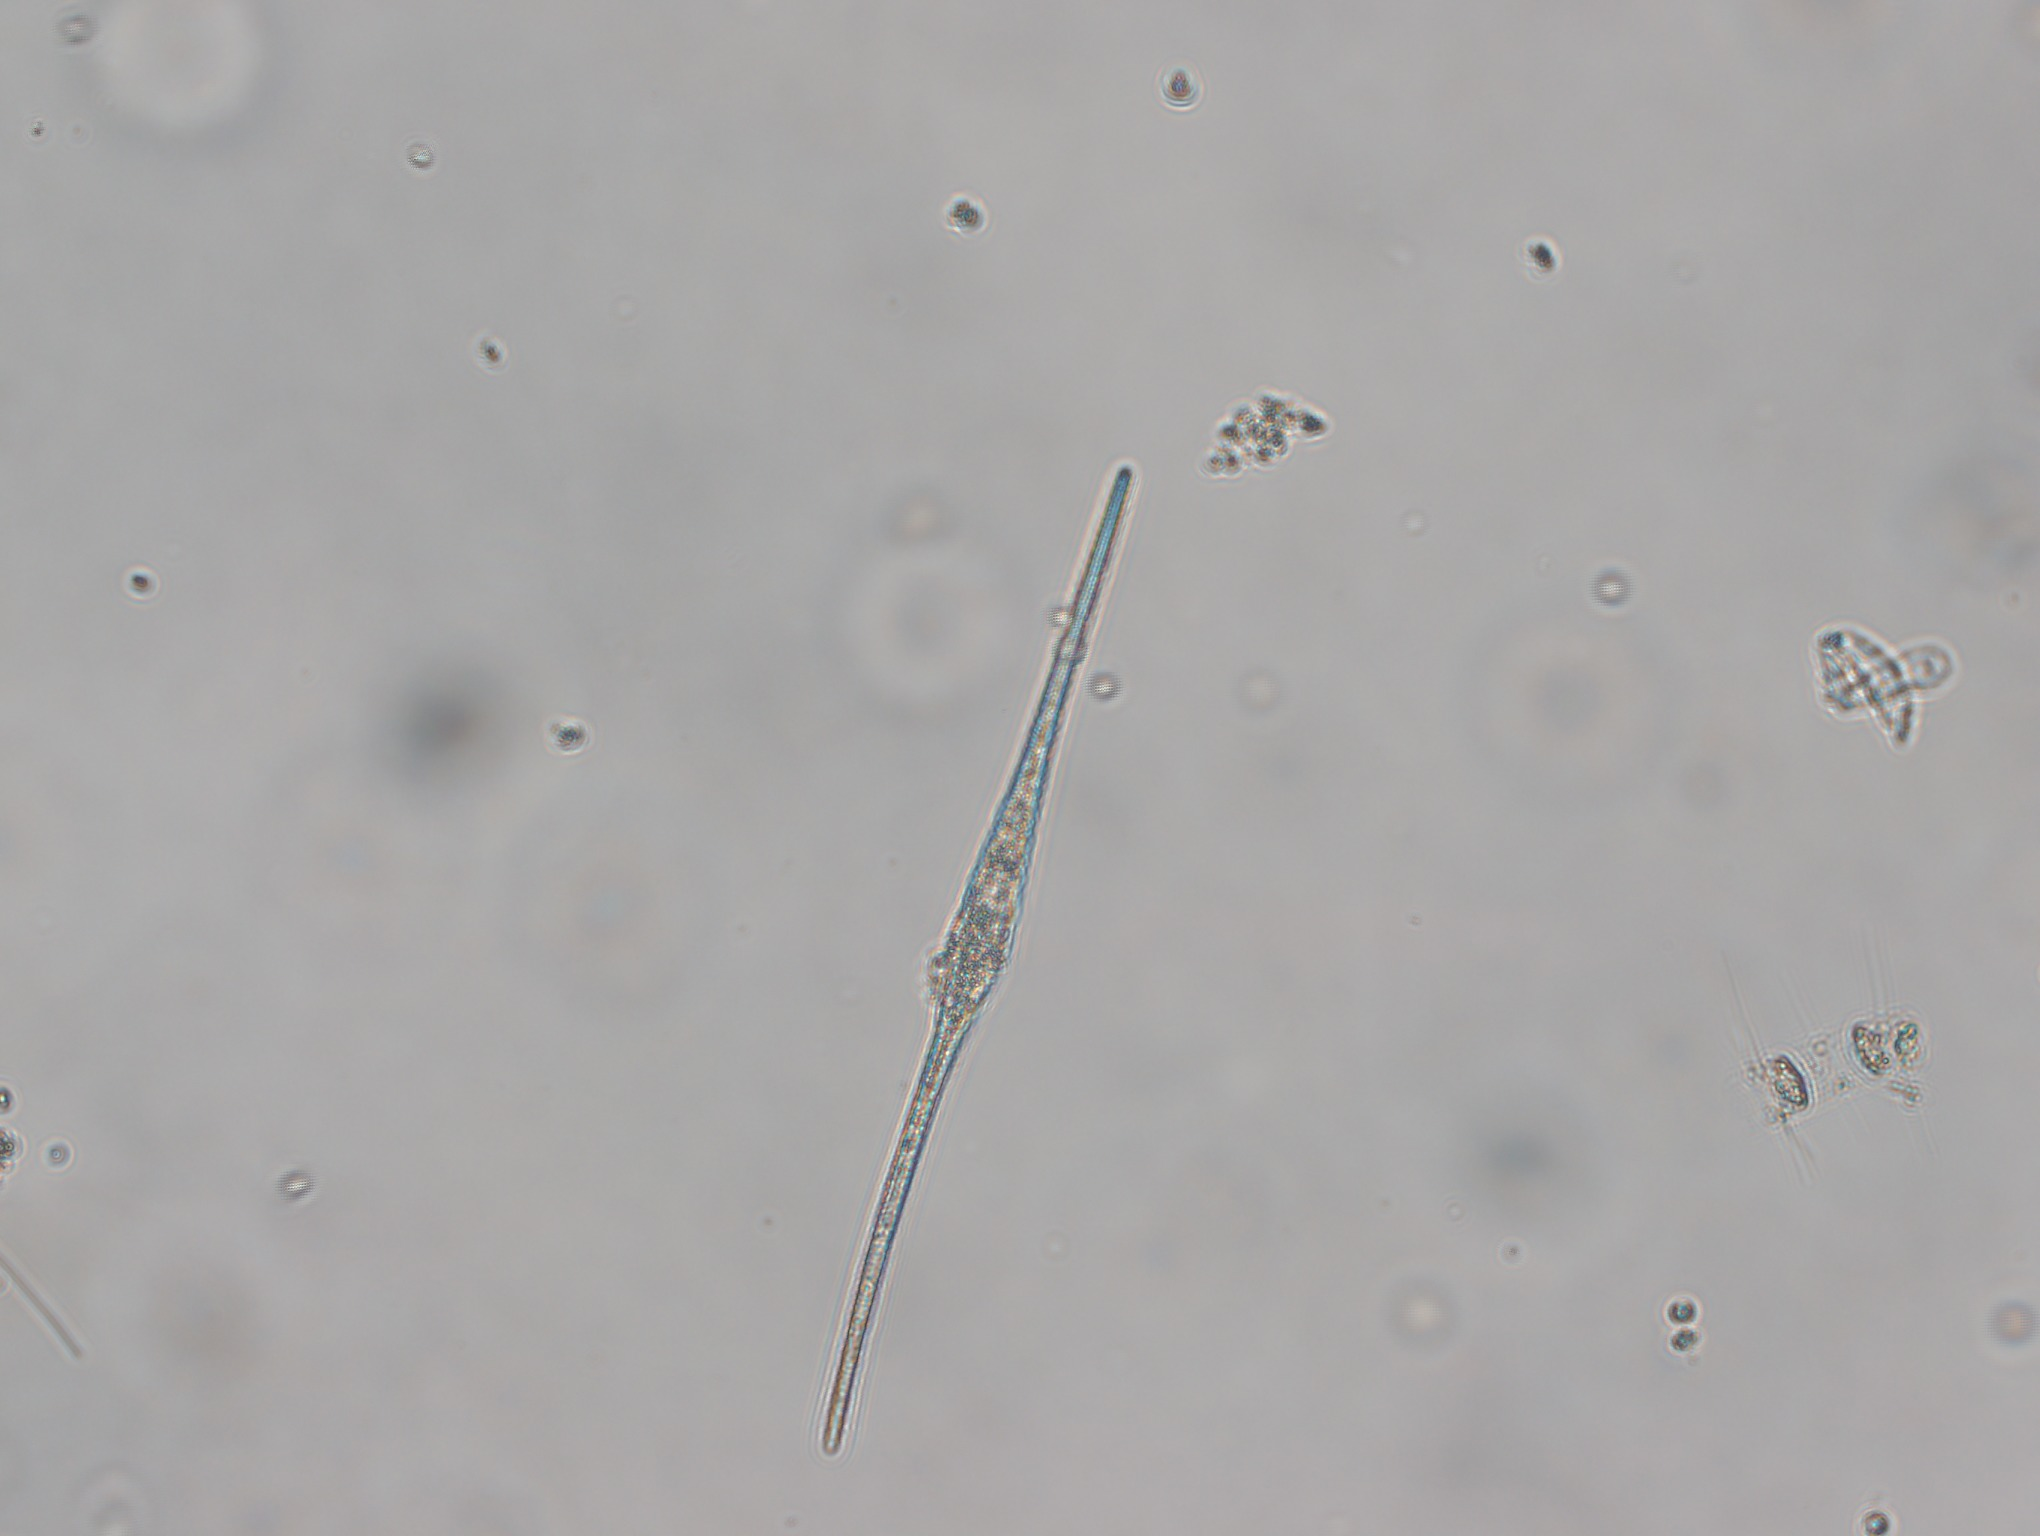ceratium fusus: (800, 445, 1143, 1457)
chaetoceros: (1680, 952, 1995, 1165)
